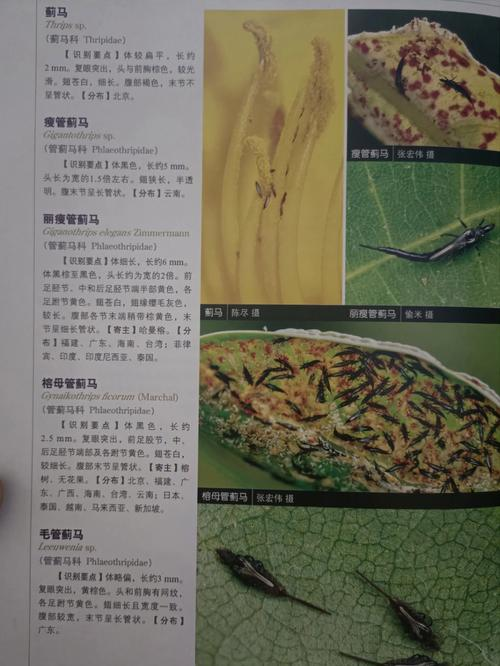Phlaeothripidae: (213, 541, 332, 621), (360, 569, 449, 650), (357, 218, 500, 263), (334, 644, 463, 666), (440, 74, 478, 109), (394, 53, 416, 105), (333, 426, 367, 447), (234, 394, 261, 419), (295, 407, 332, 425), (252, 359, 273, 387), (409, 428, 430, 450), (458, 438, 484, 455), (236, 364, 254, 387), (300, 354, 322, 372), (428, 459, 452, 475), (381, 429, 397, 453), (373, 466, 392, 486), (384, 459, 410, 473), (416, 468, 442, 482), (317, 373, 328, 406), (361, 443, 390, 455), (297, 443, 322, 456), (336, 398, 359, 412), (287, 398, 302, 419), (438, 400, 461, 413), (482, 451, 492, 476), (274, 423, 297, 433), (266, 376, 292, 383), (458, 420, 477, 429), (463, 409, 480, 416)
